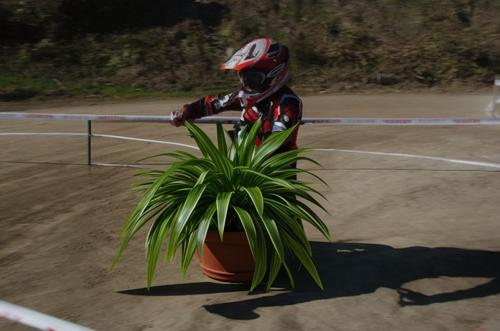person: (145, 38, 305, 290)
person/foot: (145, 250, 186, 289)
person/hand: (211, 179, 243, 208), (166, 106, 192, 131)
person/head: (233, 39, 294, 96)
pottedplant: (87, 120, 329, 291)
